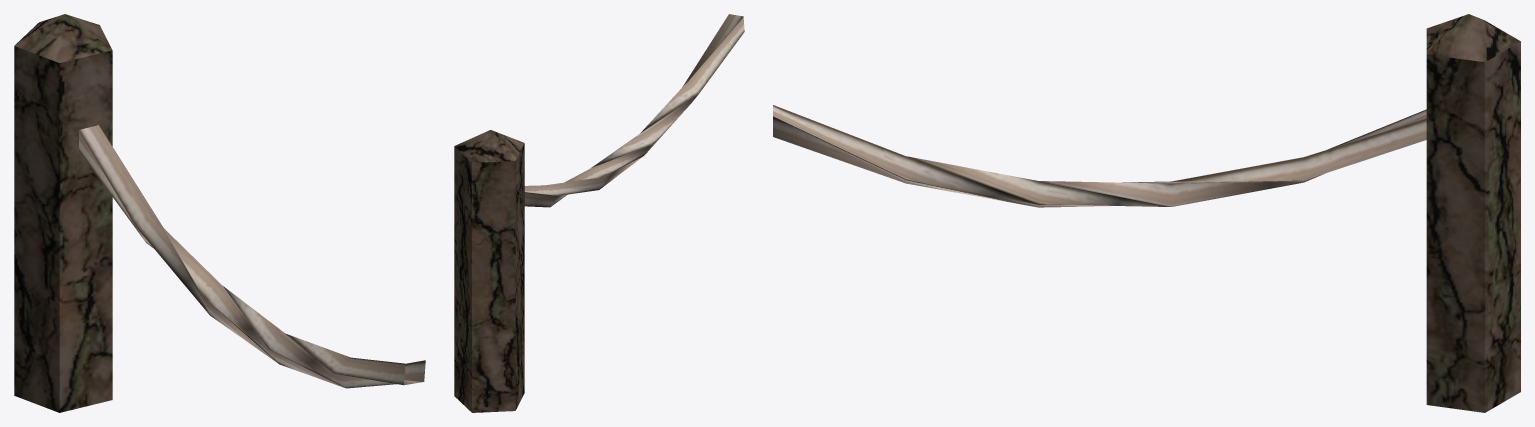
Rendered from love-death-fence-art.glb.
The picture shows the model from 3 angles, left to right: view 1: azimuth 30°, elevation 25°; view 2: azimuth 150°, elevation 25°; view 3: azimuth 270°, elevation 25°; orthographic projection. The views are drawn at different scales.
Visible parts, largest first — view 1: LoveDeath_Fence_Art; view 2: LoveDeath_Fence_Art; view 3: LoveDeath_Fence_Art.
Part boxes in pixels (<box>): LoveDeath_Fence_Art: <box>14,14,425,412</box>; LoveDeath_Fence_Art: <box>454,14,744,412</box>; LoveDeath_Fence_Art: <box>773,14,1520,412</box>.
Bounding box in the file's own units: 0.2651 × 1.12 × 2.
2 materials, 2 textured.
